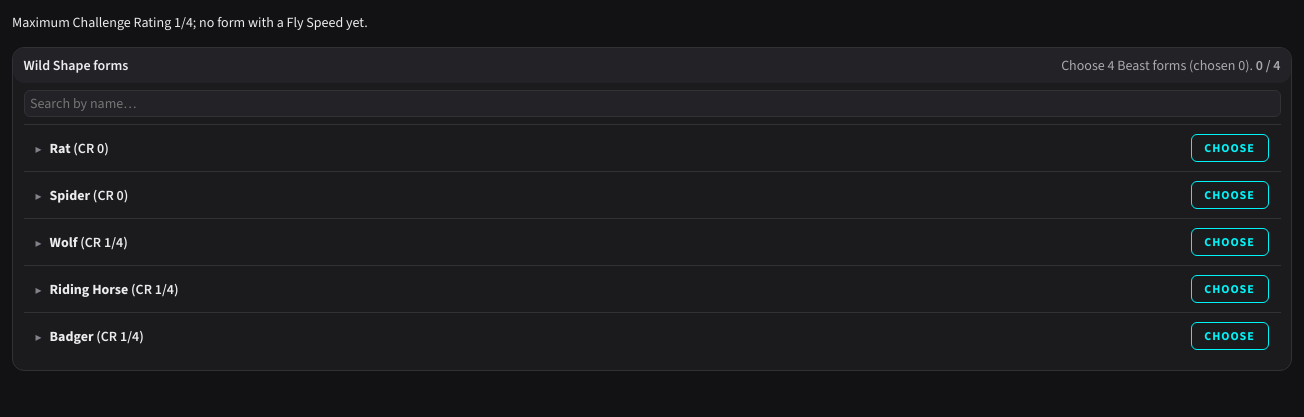
Test: WildShapeFormPicker › shows each offered beast through the shared stat block, with markup resolved
Check: the button "Wild Shape forms Choose 4 Beast forms (chosen 0). 0 / 4" is shown, box [13,48,1291,83]
Click the button with aria-label "Wolf text" at (39, 243), box [36,232,1182,253]
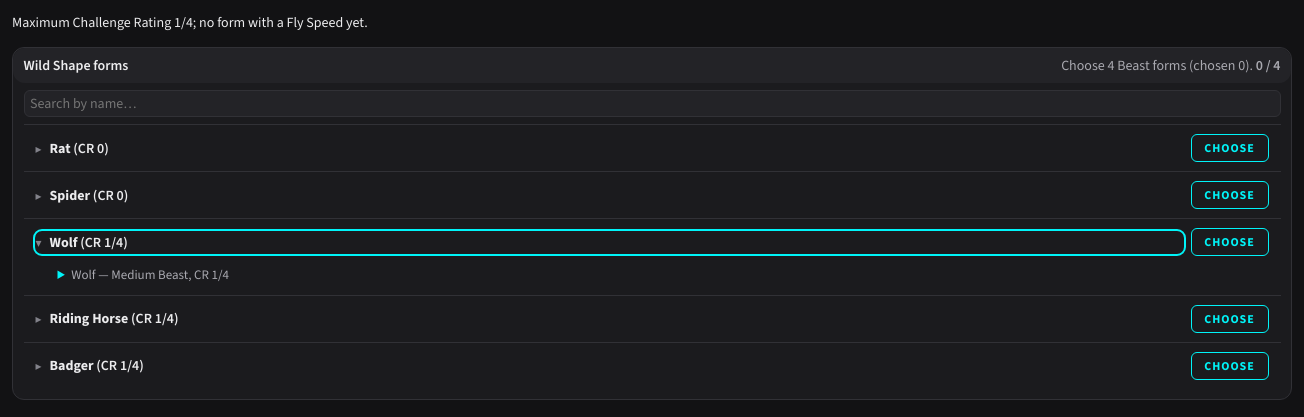
Check: the element with class "beast" is shown, box [71,266,229,283]
